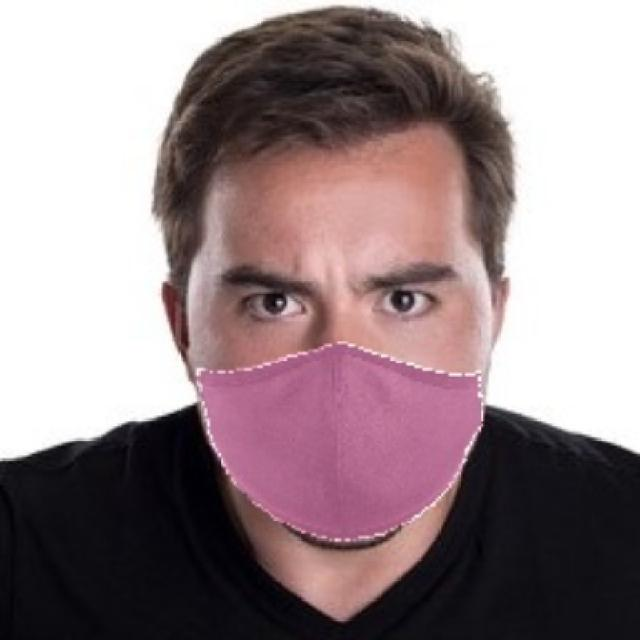mask: (157, 332, 521, 573)
